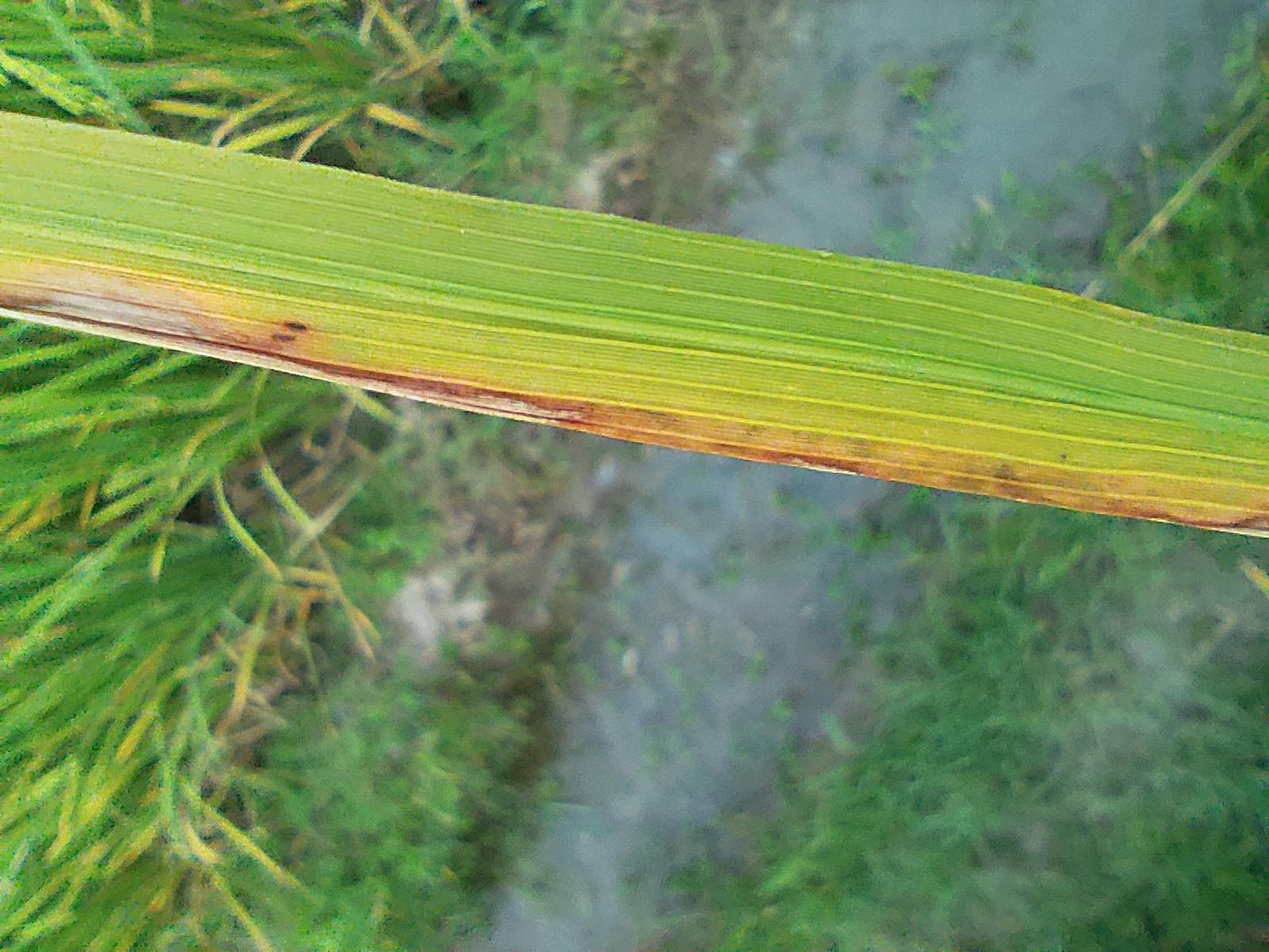BLB: (557, 0, 905, 950)
LEAF: (552, 0, 1117, 951)
